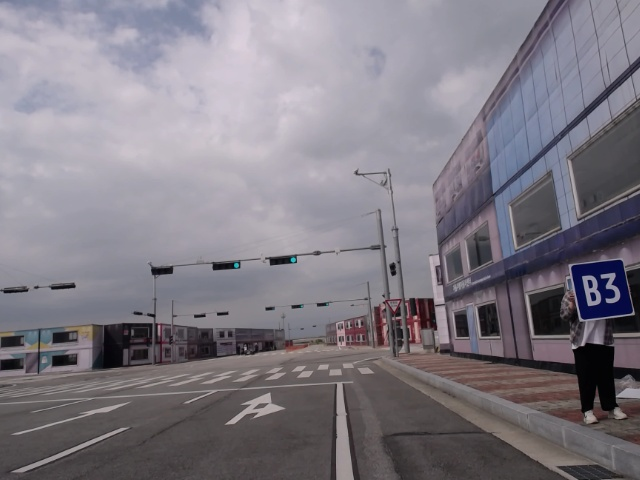delivery_b3: (566, 260, 637, 323)
straight_green_4: (266, 253, 298, 268), (210, 260, 243, 272), (315, 301, 334, 308), (290, 304, 307, 311)
